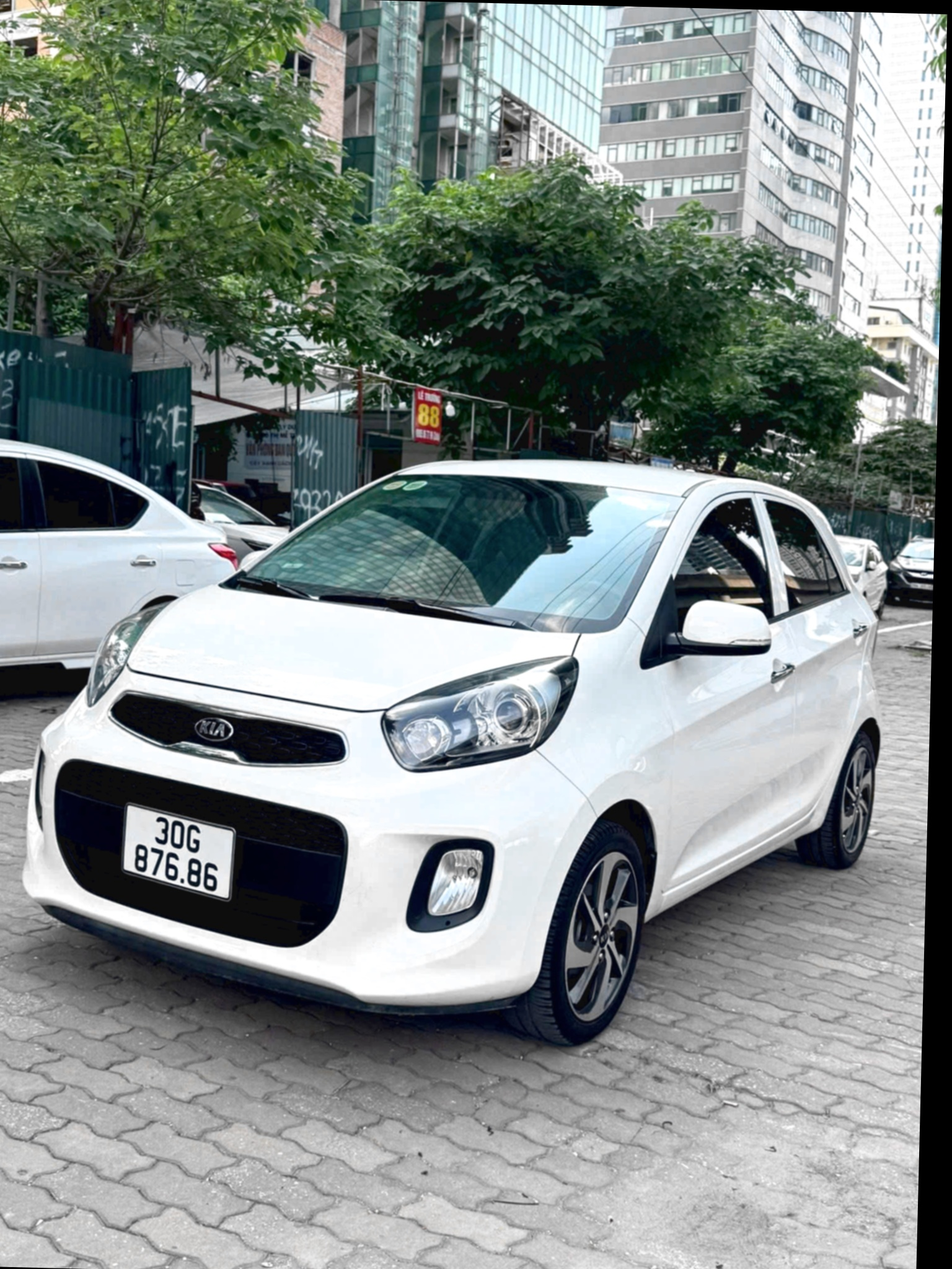Bien-so: (118, 802, 233, 897)
